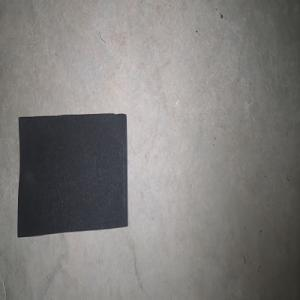PaintChip: (17, 113, 127, 237)
